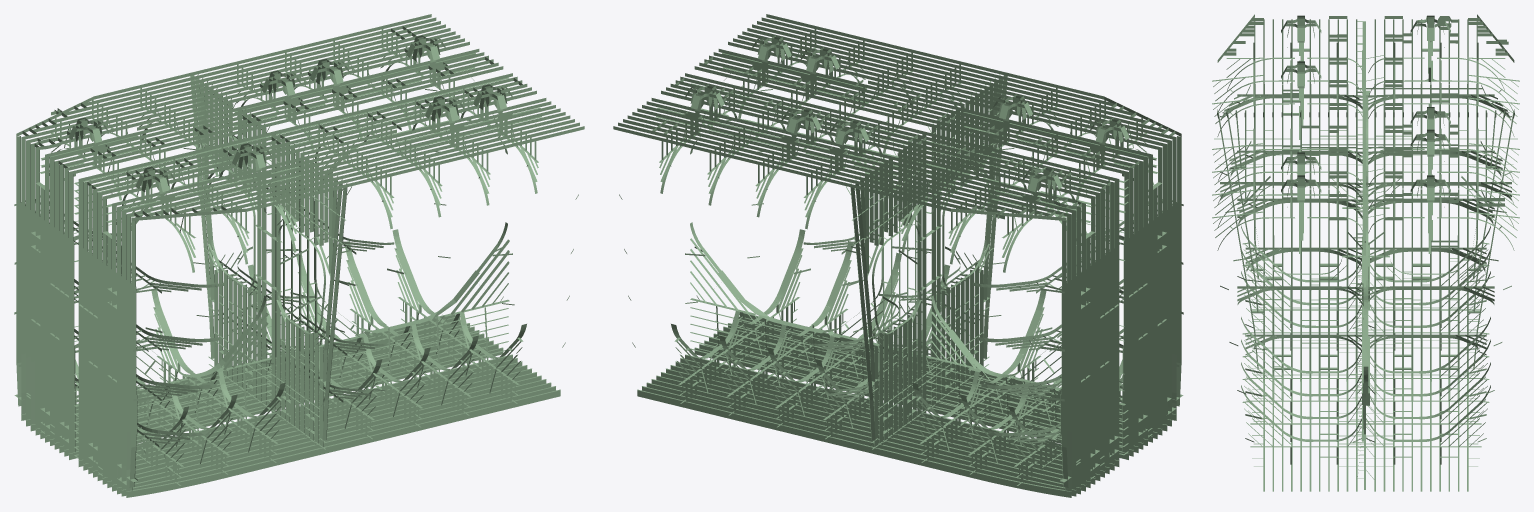
The model's file is NO_6_CENTRAL_CARGO_OIL_TK.glb.
3 renders of one model, left to right at view 1: azimuth 30°, elevation 25°; view 2: azimuth 150°, elevation 25°; view 3: azimuth 270°, elevation 25°, orthographic. The views are drawn at different scales.
Bounding box in the file's own units: 47.16 × 31.5 × 29.9.
